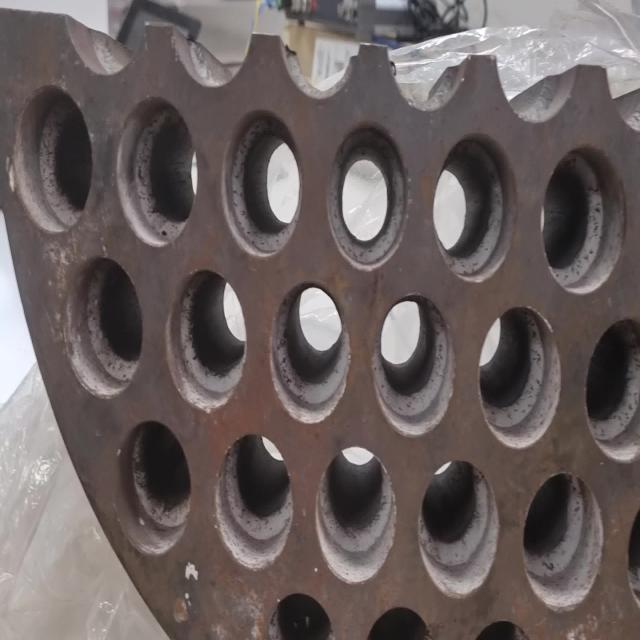Hole: (540, 144, 628, 296), (432, 132, 516, 283), (8, 84, 92, 234), (326, 120, 408, 272), (220, 109, 302, 259), (372, 292, 456, 438), (116, 96, 196, 248), (478, 305, 561, 450), (268, 281, 350, 425), (314, 444, 397, 586), (166, 267, 247, 412), (418, 458, 500, 600), (522, 471, 604, 613), (63, 256, 143, 399), (214, 430, 294, 570), (117, 418, 192, 556), (584, 317, 640, 463), (262, 590, 339, 640), (358, 604, 442, 640)
